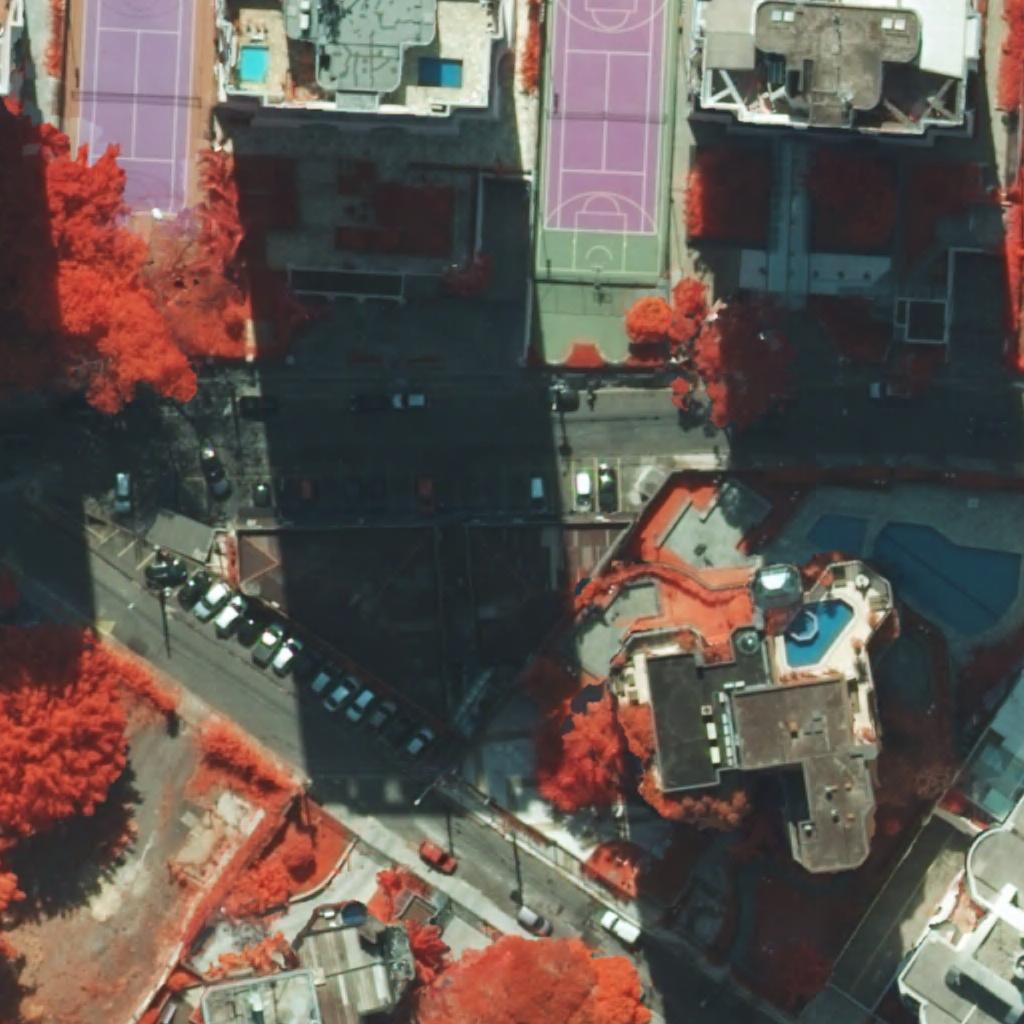pool: (874, 522, 1022, 636), (783, 598, 855, 669), (806, 513, 869, 557), (417, 58, 464, 89), (237, 47, 269, 82)
